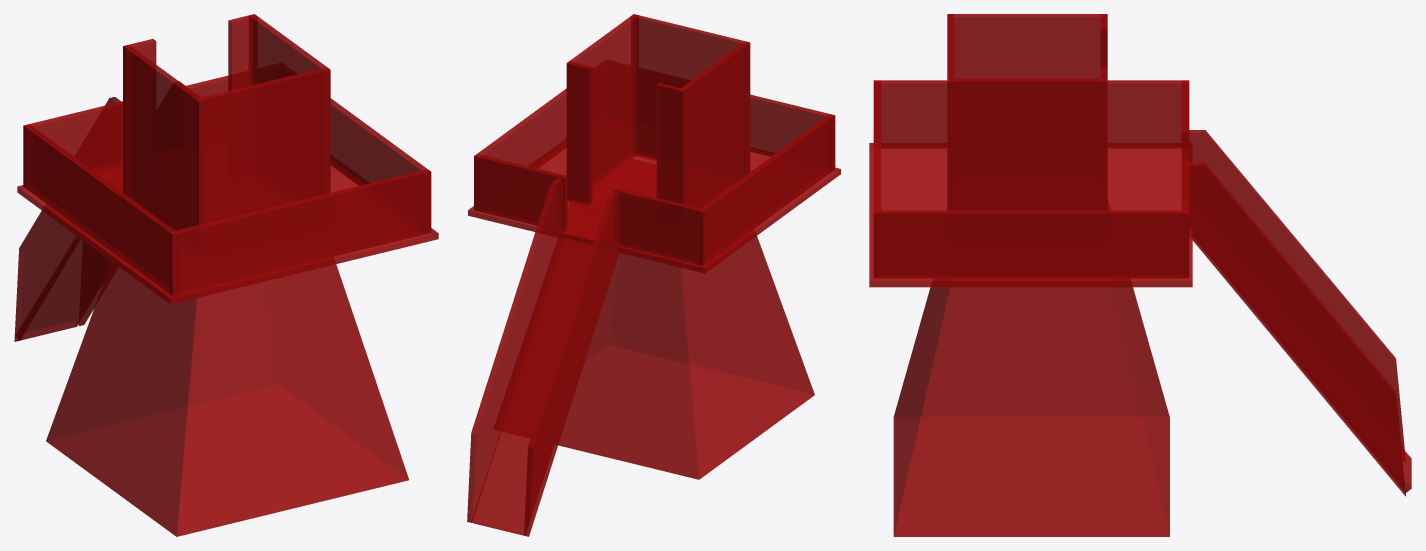
Rendered from SM_Bld_GuardTower_02_Collision.fbx.
3 views of the same model, side by side, from view 1: azimuth 30°, elevation 25°; view 2: azimuth 150°, elevation 25°; view 3: azimuth 270°, elevation 25° (orthographic). The views are drawn at different scales.
Visible parts, largest first — view 1: SM_Bld_GuardTower_02_Collision; view 2: SM_Bld_GuardTower_02_Collision; view 3: SM_Bld_GuardTower_02_Collision.
Part boxes in pixels (x1=…): SM_Bld_GuardTower_02_Collision: x1=14, y1=14, x2=438, y2=536; SM_Bld_GuardTower_02_Collision: x1=467, y1=14, x2=840, y2=536; SM_Bld_GuardTower_02_Collision: x1=869, y1=14, x2=1411, y2=536.
Bounding box in the file's own units: 400 × 581 × 665.
